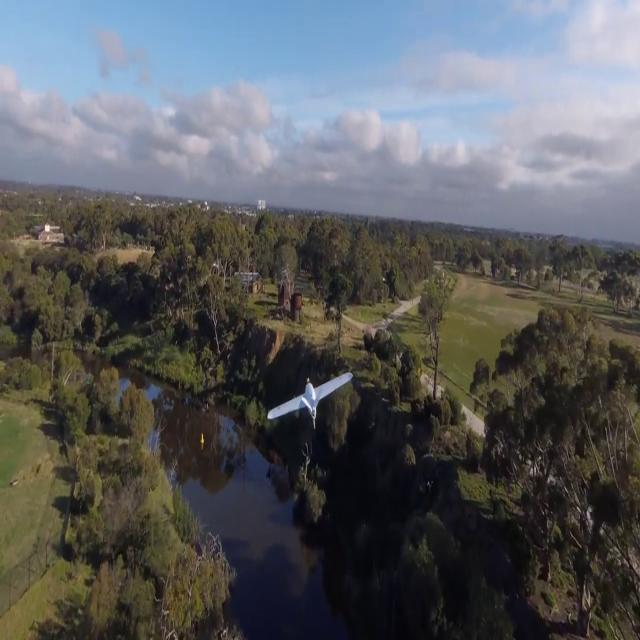iha: (303, 370, 321, 428)
